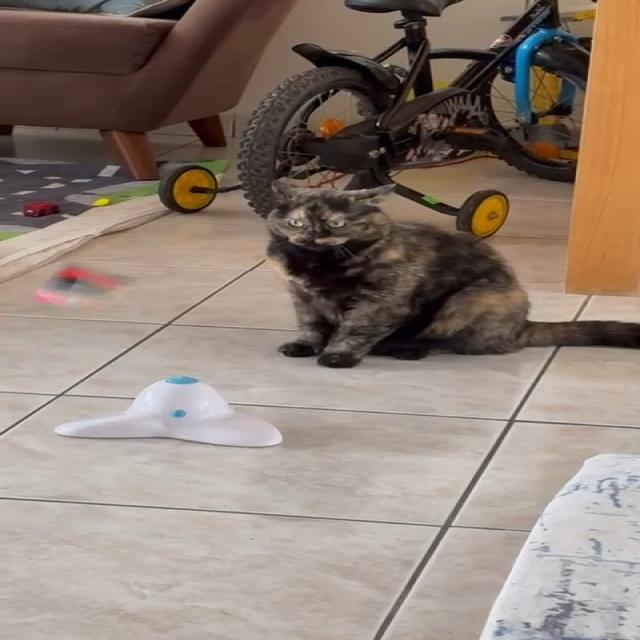authorized: (262, 177, 638, 368)
